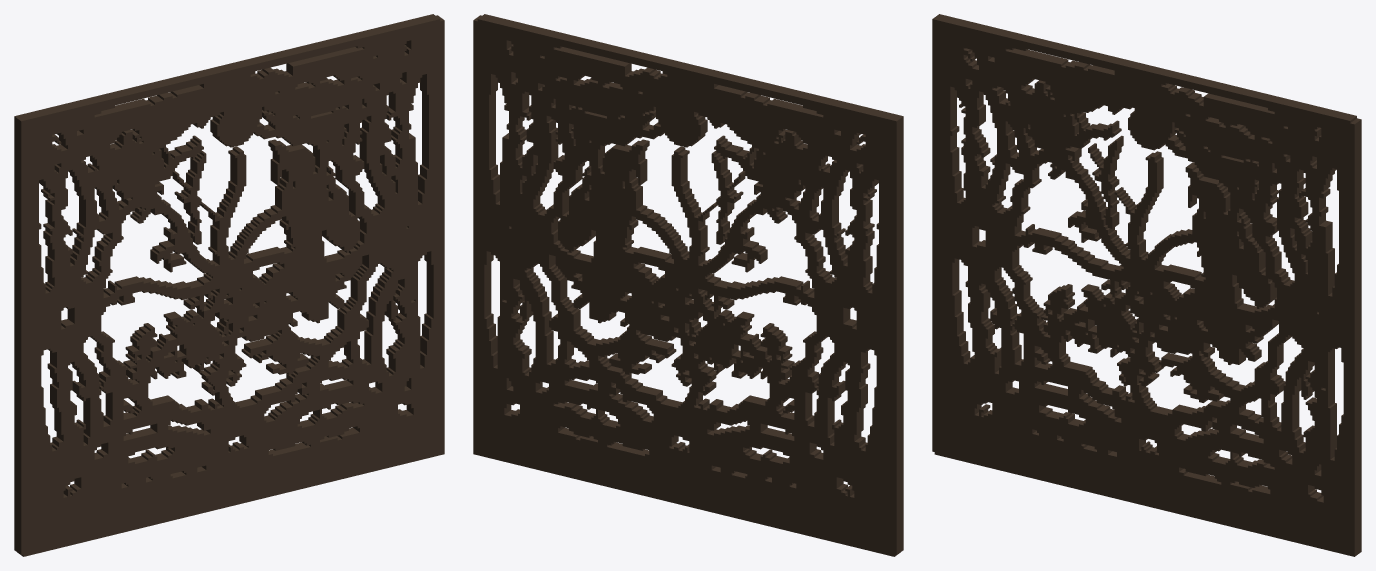
The model's file is lattice_window.glb.
3 views of the same model, side by side, from view 1: azimuth 30°, elevation 25°; view 2: azimuth 150°, elevation 25°; view 3: azimuth 330°, elevation 25° (orthographic).
Visible parts, largest first — view 1: Lattice_Silhouette; view 2: Lattice_Silhouette; view 3: Lattice_Silhouette.
Part boxes in pixels (box(x1,y1,x2,y2)): Lattice_Silhouette: box(14, 14, 444, 556); Lattice_Silhouette: box(473, 14, 903, 556); Lattice_Silhouette: box(932, 14, 1361, 556).
Size of the model in its own units: 1.5 by 1.48 by 0.0427.
